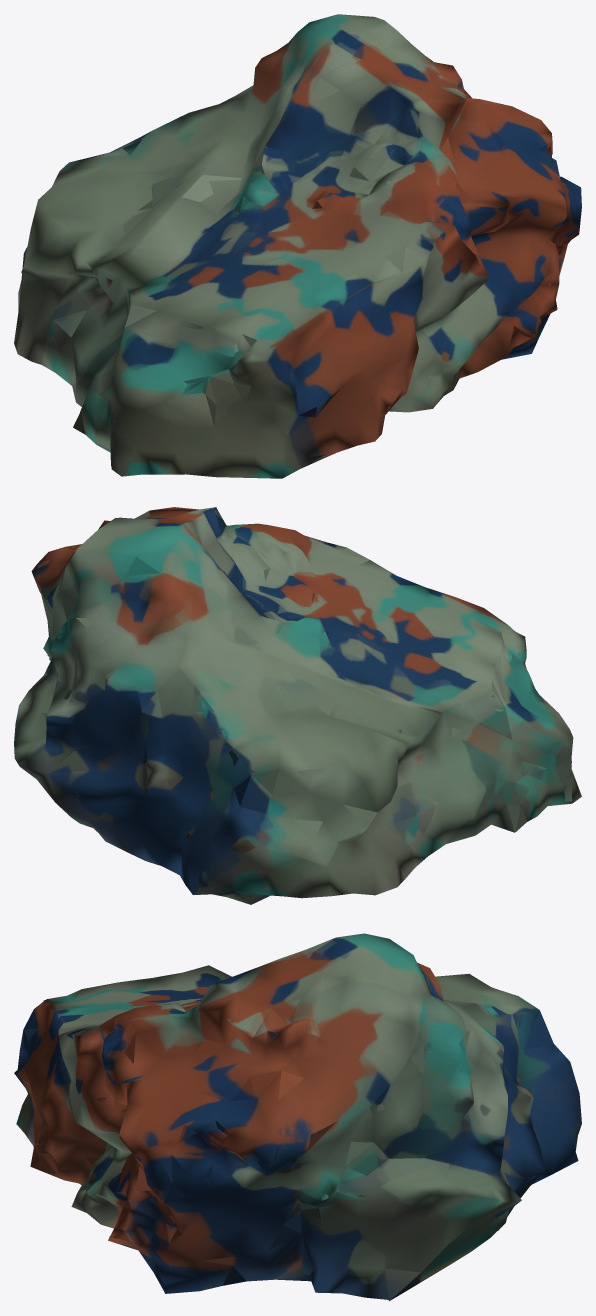
File: Meshy_AI_Painted_Earthstone_0823190553_texture.fbx
The picture shows the model from 3 angles, top to bottom: view 1: azimuth 30°, elevation 25°; view 2: azimuth 150°, elevation 25°; view 3: azimuth 270°, elevation 25°; orthographic projection. The views are drawn at different scales.
Visible parts, largest first — view 1: Mesh_0; view 2: Mesh_0; view 3: Mesh_0.
Part boxes in pixels (x1,y1,x2,y2): Mesh_0: [14, 14, 581, 478]; Mesh_0: [14, 507, 581, 904]; Mesh_0: [14, 933, 581, 1301].
Bounding box in the file's own units: 347 × 200 × 328.
Materials: 1 (1 with a texture image).
